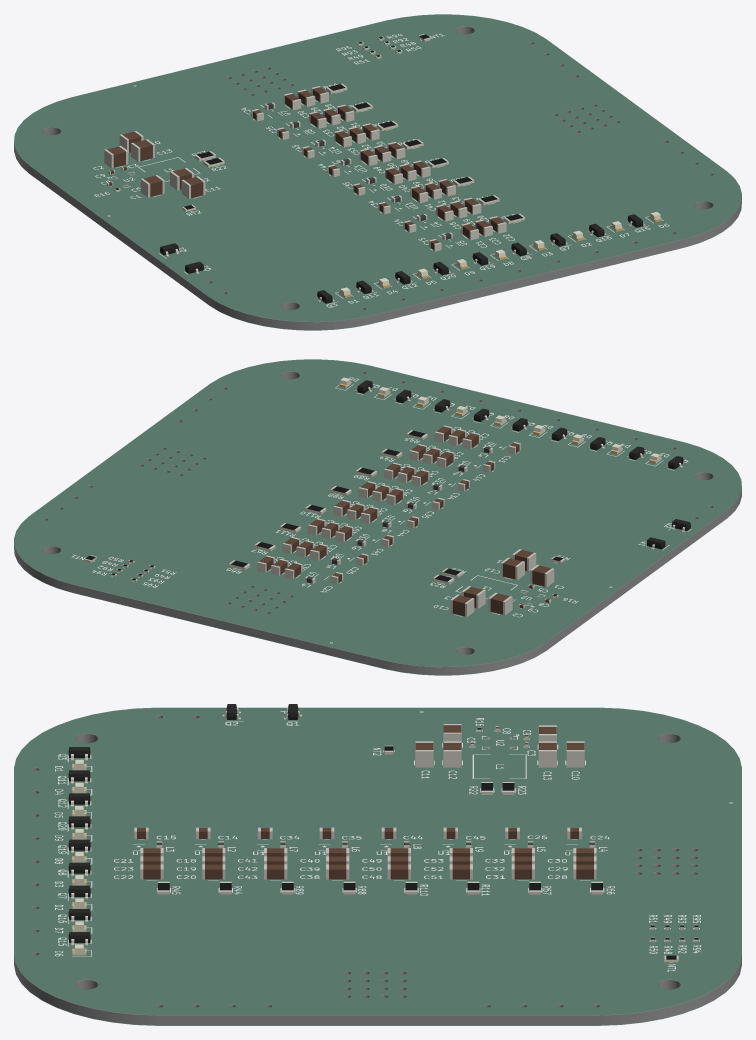
Rendered from pcbled_driver.glb.
3 views of the same model, one above another, from view 1: azimuth 30°, elevation 25°; view 2: azimuth 150°, elevation 25°; view 3: azimuth 270°, elevation 25° (orthographic). The views are drawn at different scales.
Visible parts, largest first — view 1: =>[0:1:1:16], =>[0:1:1:14], =>[0:1:1:12], =>[0:1:1:15]; view 2: =>[0:1:1:16], =>[0:1:1:14], =>[0:1:1:12], =>[0:1:1:15]; view 3: =>[0:1:1:16], =>[0:1:1:14], =>[0:1:1:12], =>[0:1:1:15].
Part boxes in pixels (left/top/right/bottom): =>[0:1:1:16]: left=14, top=15, right=741, bottom=330; =>[0:1:1:14]: left=14, top=14, right=741, bottom=321; =>[0:1:1:12]: left=93, top=33, right=669, bottom=307; =>[0:1:1:15]: left=15, top=156, right=741, bottom=330; =>[0:1:1:16]: left=14, top=360, right=741, bottom=675; =>[0:1:1:14]: left=14, top=359, right=741, bottom=666; =>[0:1:1:12]: left=71, top=377, right=691, bottom=643; =>[0:1:1:15]: left=14, top=501, right=740, bottom=675; =>[0:1:1:16]: left=14, top=708, right=741, bottom=1025; =>[0:1:1:14]: left=14, top=707, right=741, bottom=1015; =>[0:1:1:12]: left=54, top=711, right=732, bottom=971; =>[0:1:1:15]: left=14, top=965, right=741, bottom=1025.
Size of the model in its own units: 0.1 by 0.00468 by 0.1.
